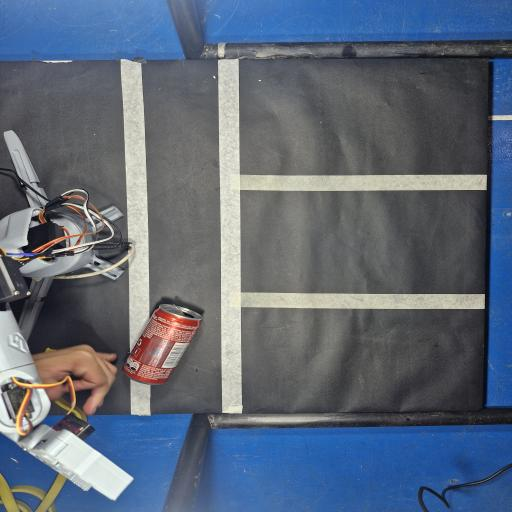lata: (123, 304, 202, 385)
